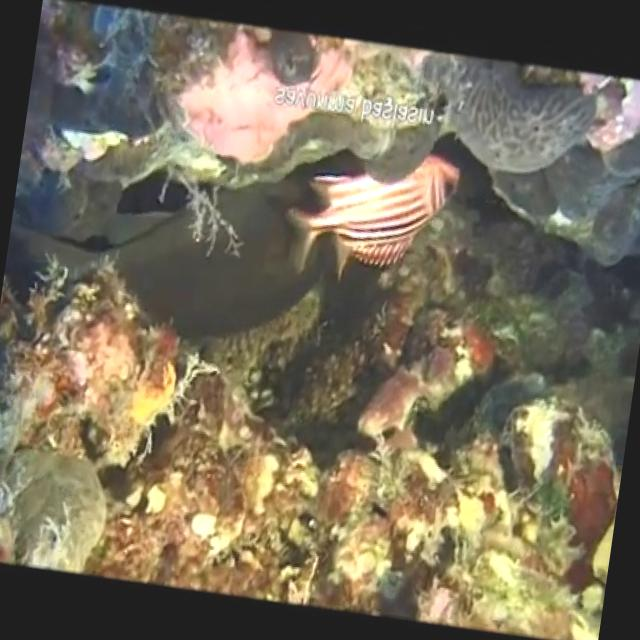Asker Baligi: (276, 132, 462, 291)
